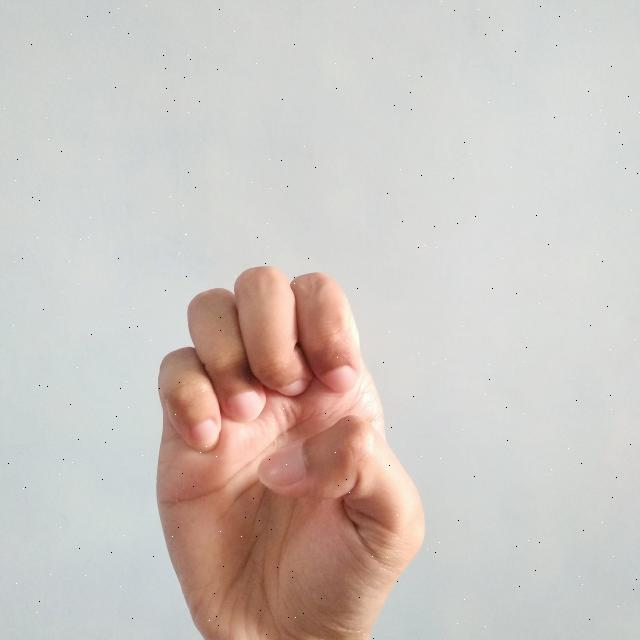E: (152, 262, 429, 640)
